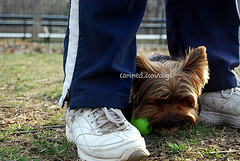tennis ball: (128, 114, 155, 136)
